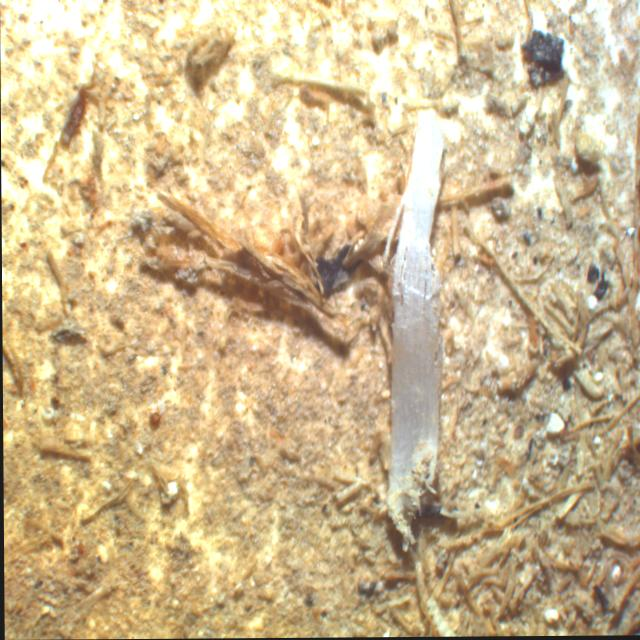microplastic: (384, 108, 449, 504)
